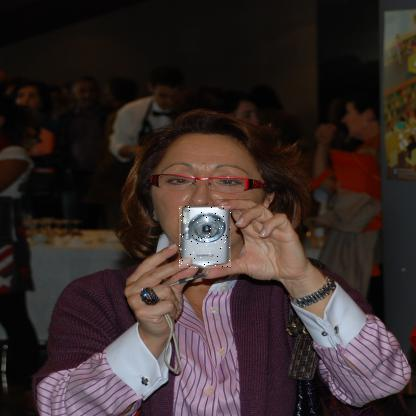Camera: (180, 207, 233, 270)
